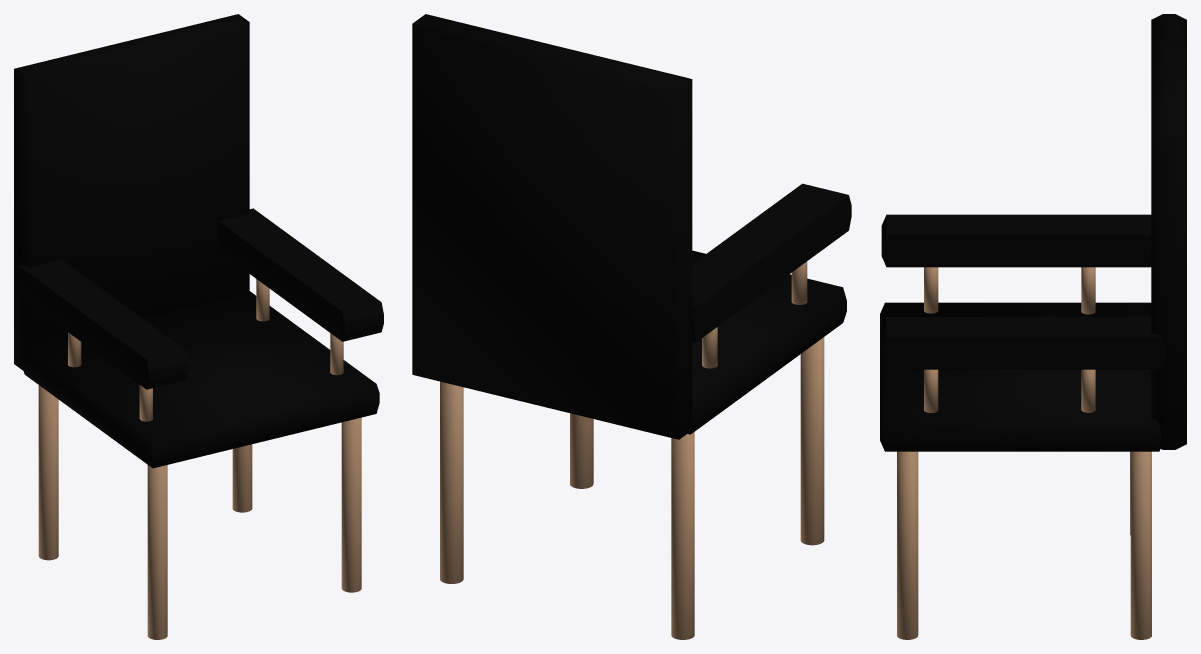
3 renders of one model, left to right at view 1: azimuth 30°, elevation 25°; view 2: azimuth 150°, elevation 25°; view 3: azimuth 270°, elevation 25°, orthographic. The views are drawn at different scales.
Parts seen in each view (by area): view 1: Cube.001, Cube, Cube.003, Cube.002, Cylinder, Cylinder.001, Cylinder.003, Cylinder.002, Cylinder.005, Cylinder.007; view 2: Cube.001, Cube.003, Cube, Cylinder, Cylinder.003, Cylinder.002, Cylinder.001, Cylinder.004; view 3: Cube, Cube.001, Cube.002, Cube.003, Cylinder.001, Cylinder.002, Cylinder.006, Cylinder.004, Cylinder.007, Cylinder.005.
Part boxes in pixels (<box>): Cube.001: <box>14,14,249,370</box>; Cube: <box>21,291,379,468</box>; Cube.003: <box>16,259,187,389</box>; Cube.002: <box>218,208,383,341</box>; Cylinder: <box>147,465,167,639</box>; Cylinder.001: <box>341,417,361,592</box>; Cylinder.003: <box>38,385,58,560</box>; Cylinder.002: <box>232,444,252,512</box>; Cylinder.005: <box>256,279,269,321</box>; Cylinder.007: <box>330,333,343,375</box>; Cube.001: <box>412,14,692,439</box>; Cube.003: <box>691,183,851,342</box>; Cube: <box>687,250,846,434</box>; Cylinder: <box>800,337,824,545</box>; Cylinder.003: <box>671,432,694,639</box>; Cylinder.002: <box>440,381,463,583</box>; Cylinder.001: <box>570,413,593,488</box>; Cylinder.004: <box>791,261,807,304</box>; Cube: <box>880,302,1160,451</box>; Cube.001: <box>1151,14,1186,449</box>; Cube.002: <box>881,317,1165,369</box>; Cube.003: <box>881,214,1151,267</box>; Cylinder.001: <box>897,451,918,639</box>; Cylinder.002: <box>1130,451,1151,639</box>; Cylinder.006: <box>1081,267,1095,314</box>; Cylinder.004: <box>924,267,938,313</box>; Cylinder.007: <box>924,369,938,412</box>; Cylinder.005: <box>1081,369,1095,412</box>.
Size of the model in its own units: 0.4109 by 0.798 by 0.432.
